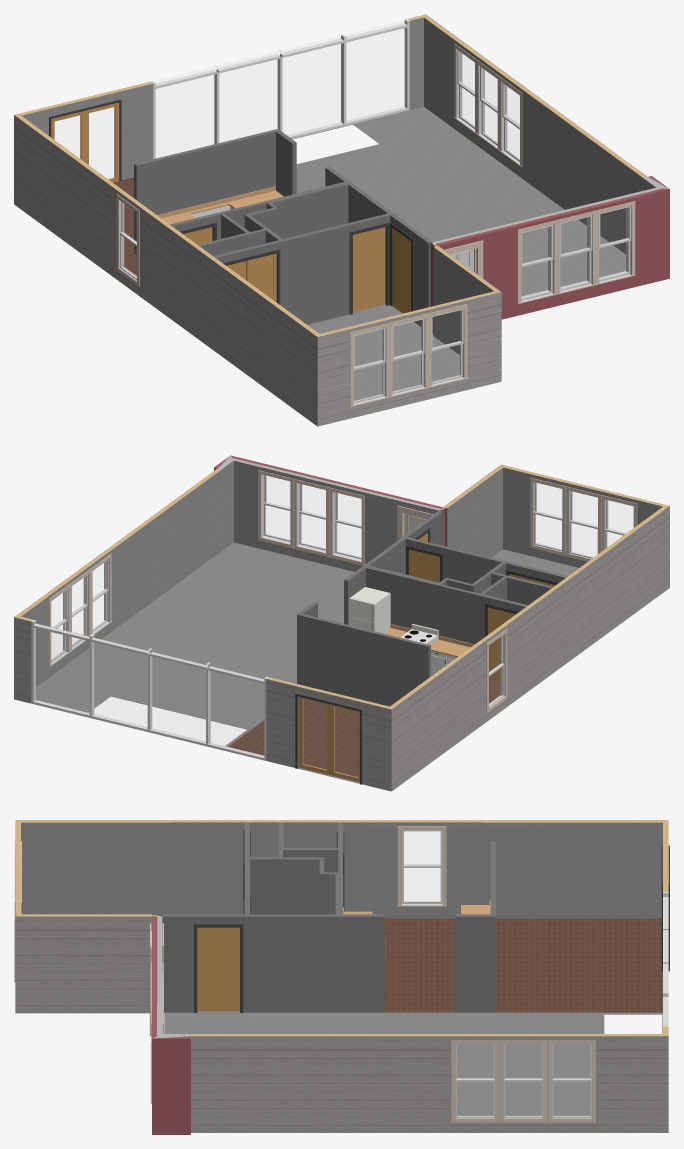
The model's file is SamplePlan.glb.
The picture shows the model from 3 angles, top to bottom: view 1: azimuth 30°, elevation 25°; view 2: azimuth 150°, elevation 25°; view 3: azimuth 270°, elevation 25°; orthographic projection. The views are drawn at different scales.
Visible parts, largest first — view 1: Carpet.80, Exterior - Siding.9, Exterior - Siding.6, Exterior - Brick.8, Exterior - Siding.4, Interior Wall - 4 1/2".12, Interior Wall - 4 1/2".13, Exterior - Siding.5, 36" x 80".29, Interior Wall - 6 1/2".23, Exterior - Siding.3, Interior Wall - 4 1/2".10 (+18 smaller); view 2: Carpet.80, Exterior - Siding.9, Exterior - Siding.6, Interior Wall - 4 1/2".12, Exterior - Siding.5, Exterior - Brick.8, VCT.81, Exterior - Siding.4, Exterior - Siding.3, Interior Wall - 6 1/2".23, Interior Wall - 4 1/2".13, Interior Wall - 4 1/2".10 (+22 smaller); view 3: Exterior - Siding.9, Exterior - Siding.6, VCT.81, Carpet.80, Interior Wall - 4 1/2".10, Exterior - Siding.3, 36" x 80".28, Interior Wall - 4 1/2".11, Exterior - Brick.7, Interior Wall - 4".20, Interior Wall - 4 1/2".14, 36" x 72".37 (+10 smaller).
Boxes of the visible parts, x1=… form: Carpet.80: x1=292, y1=107, x2=625, y2=400; Exterior - Siding.9: x1=14, y1=115, x2=319, y2=426; Exterior - Siding.6: x1=424, y1=14, x2=647, y2=254; Exterior - Brick.8: x1=430, y1=187, x2=669, y2=333; Exterior - Siding.4: x1=317, y1=291, x2=501, y2=426; Interior Wall - 4 1/2".12: x1=134, y1=129, x2=275, y2=254; Interior Wall - 4 1/2".13: x1=213, y1=213, x2=390, y2=324; Exterior - Siding.5: x1=14, y1=14, x2=425, y2=180; 36" x 80".29: x1=349, y1=222, x2=389, y2=314; Interior Wall - 6 1/2".23: x1=268, y1=182, x2=348, y2=238; Exterior - Siding.3: x1=433, y1=244, x2=500, y2=354; Interior Wall - 4 1/2".10: x1=325, y1=166, x2=432, y2=326; Carpet.80: x1=36, y1=542, x2=578, y2=746; Exterior - Siding.9: x1=390, y1=506, x2=669, y2=790; Exterior - Siding.6: x1=14, y1=468, x2=221, y2=686; Interior Wall - 4 1/2".12: x1=299, y1=614, x2=430, y2=706; Exterior - Siding.5: x1=14, y1=616, x2=391, y2=791; Exterior - Brick.8: x1=230, y1=455, x2=445, y2=571; VCT.81: x1=228, y1=676, x2=500, y2=776; Exterior - Siding.4: x1=501, y1=464, x2=669, y2=567; Exterior - Siding.3: x1=441, y1=465, x2=502, y2=557; Interior Wall - 6 1/2".23: x1=366, y1=565, x2=438, y2=629; Interior Wall - 4 1/2".13: x1=405, y1=537, x2=567, y2=583; Interior Wall - 4 1/2".10: x1=344, y1=510, x2=442, y2=624; Exterior - Siding.9: x1=15, y1=820, x2=668, y2=918; Exterior - Siding.6: x1=191, y1=1034, x2=668, y2=1132; VCT.81: x1=385, y1=918, x2=662, y2=1012; Carpet.80: x1=164, y1=1011, x2=662, y2=1115; Interior Wall - 4 1/2".10: x1=162, y1=914, x2=384, y2=1012; Exterior - Siding.3: x1=15, y1=914, x2=157, y2=1013; 36" x 80".28: x1=194, y1=924, x2=243, y2=1012; Interior Wall - 4 1/2".11: x1=456, y1=914, x2=495, y2=1012; Exterior - Brick.7: x1=152, y1=1034, x2=190, y2=1134; Interior Wall - 4".20: x1=283, y1=857, x2=324, y2=914; Interior Wall - 4 1/2".14: x1=250, y1=857, x2=282, y2=914; 36" x 72".37: x1=397, y1=826, x2=446, y2=906.
Bounding box in the file's own units: 36.57 × 7.51 × 46.33.
112 materials, 21 textured.
